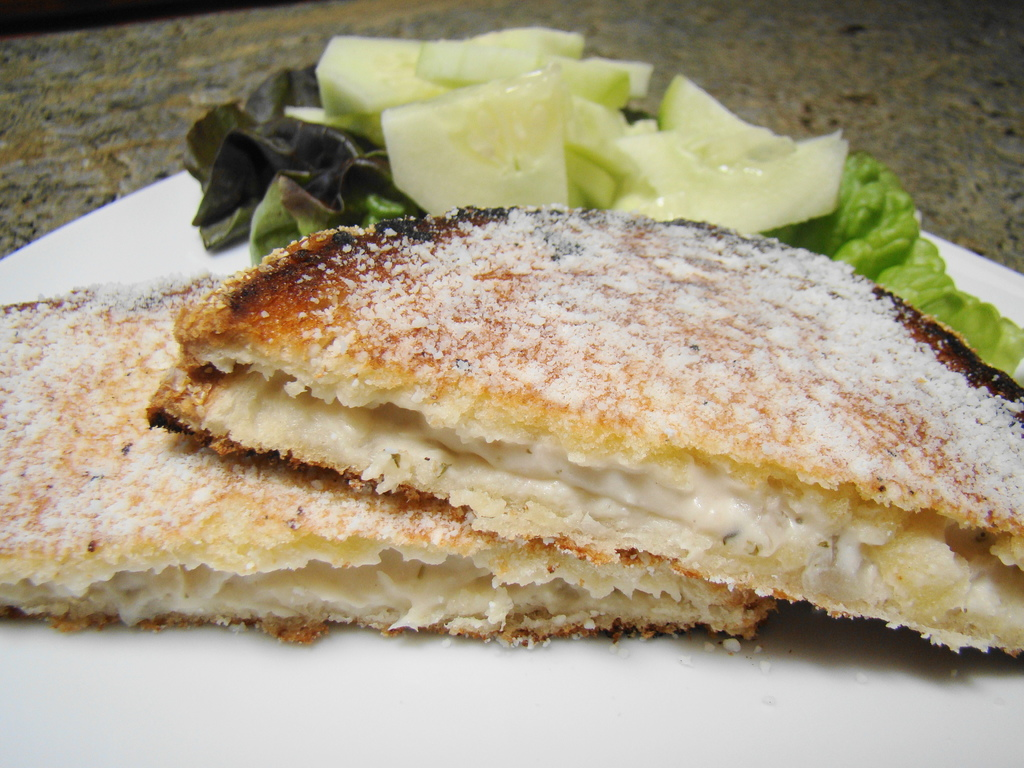sandwich: (143, 203, 1023, 658), (0, 266, 783, 648)
